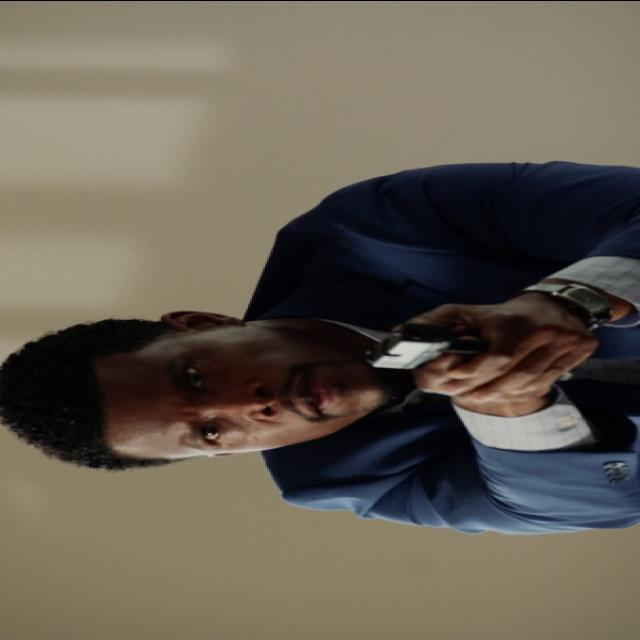weapons: (342, 299, 596, 387)
